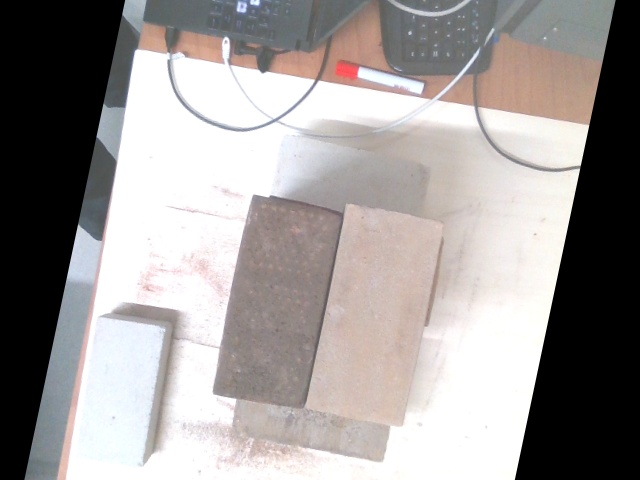brick: (306, 205, 445, 429), (213, 196, 344, 412), (74, 317, 163, 467)
